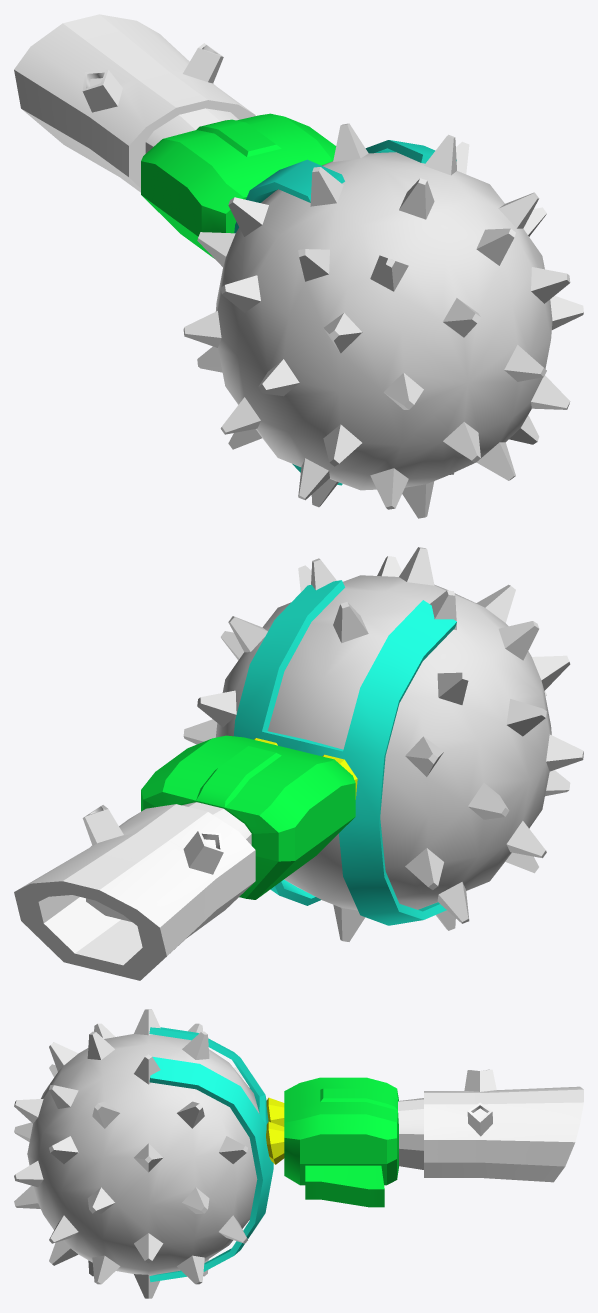
File: SHAR2.fbx
3 renders of one model, top to bottom at view 1: azimuth 30°, elevation 25°; view 2: azimuth 150°, elevation 25°; view 3: azimuth 270°, elevation 25°, orthographic. The views are drawn at different scales.
Visible parts, largest first — view 1: Cube, Cube.001, Cube.020; view 2: Cube, Cube.020, Cube.001; view 3: Cube, Cube.020, Cube.001.
Boxes of the visible parts, bbox=[...] form: Cube: bbox=[183, 123, 583, 518]; Cube.001: bbox=[14, 14, 255, 192]; Cube.020: bbox=[141, 113, 456, 485]; Cube: bbox=[183, 547, 583, 941]; Cube.020: bbox=[141, 580, 456, 925]; Cube.001: bbox=[14, 802, 255, 980]; Cube: bbox=[14, 1009, 259, 1298]; Cube.020: bbox=[149, 1027, 398, 1282]; Cube.001: bbox=[398, 1069, 583, 1182].
Bounding box in the file's own units: 186 × 186 × 395.
